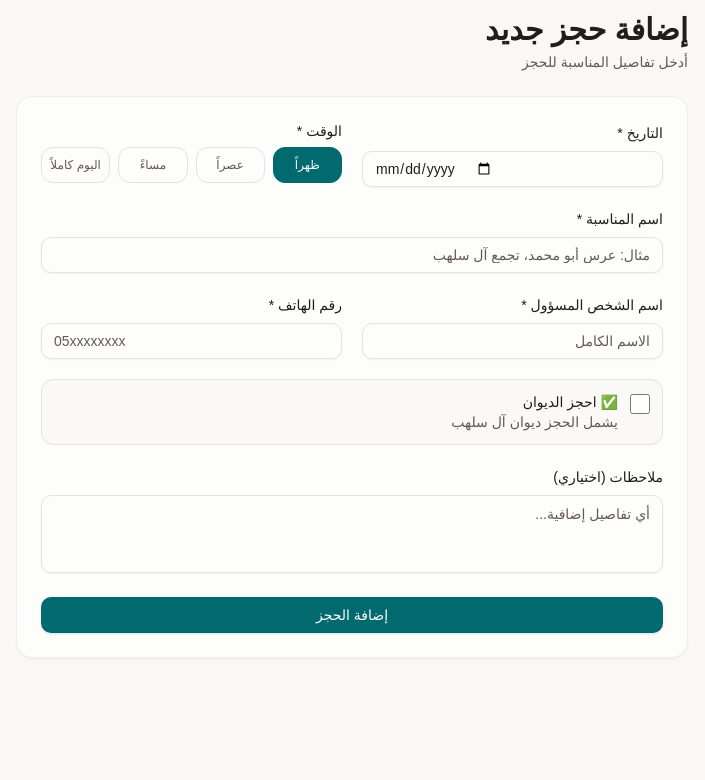
Test: AddBookingPage: new booking › shows the Islamic date warning
In the date field labelled "التاريخ *": (512, 169) top-left (362, 151), bottom-right (663, 187), type "2026-05-26"
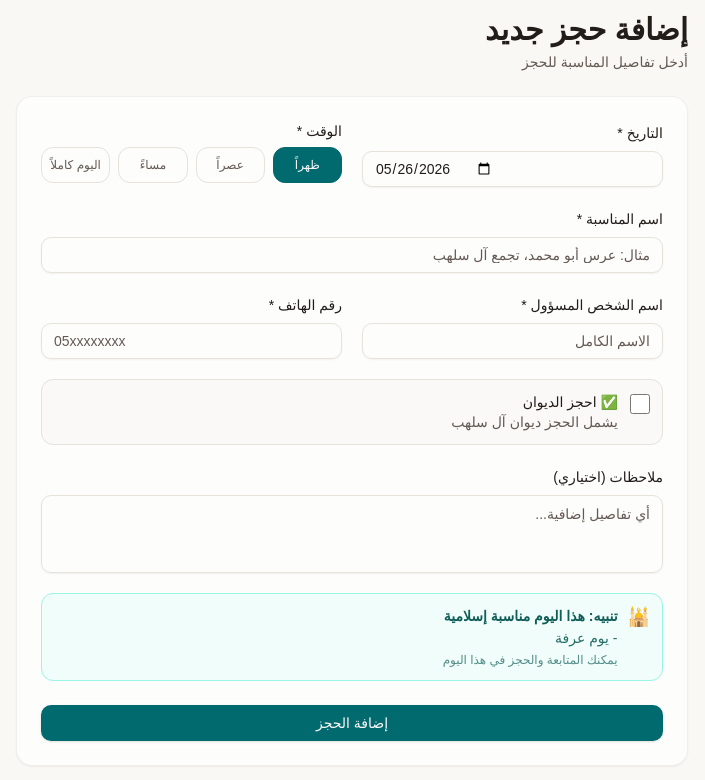
Expected: the text "تنبيه: هذا اليوم مناسبة إسلامية" is shown, top-left (443, 606), bottom-right (618, 626)
